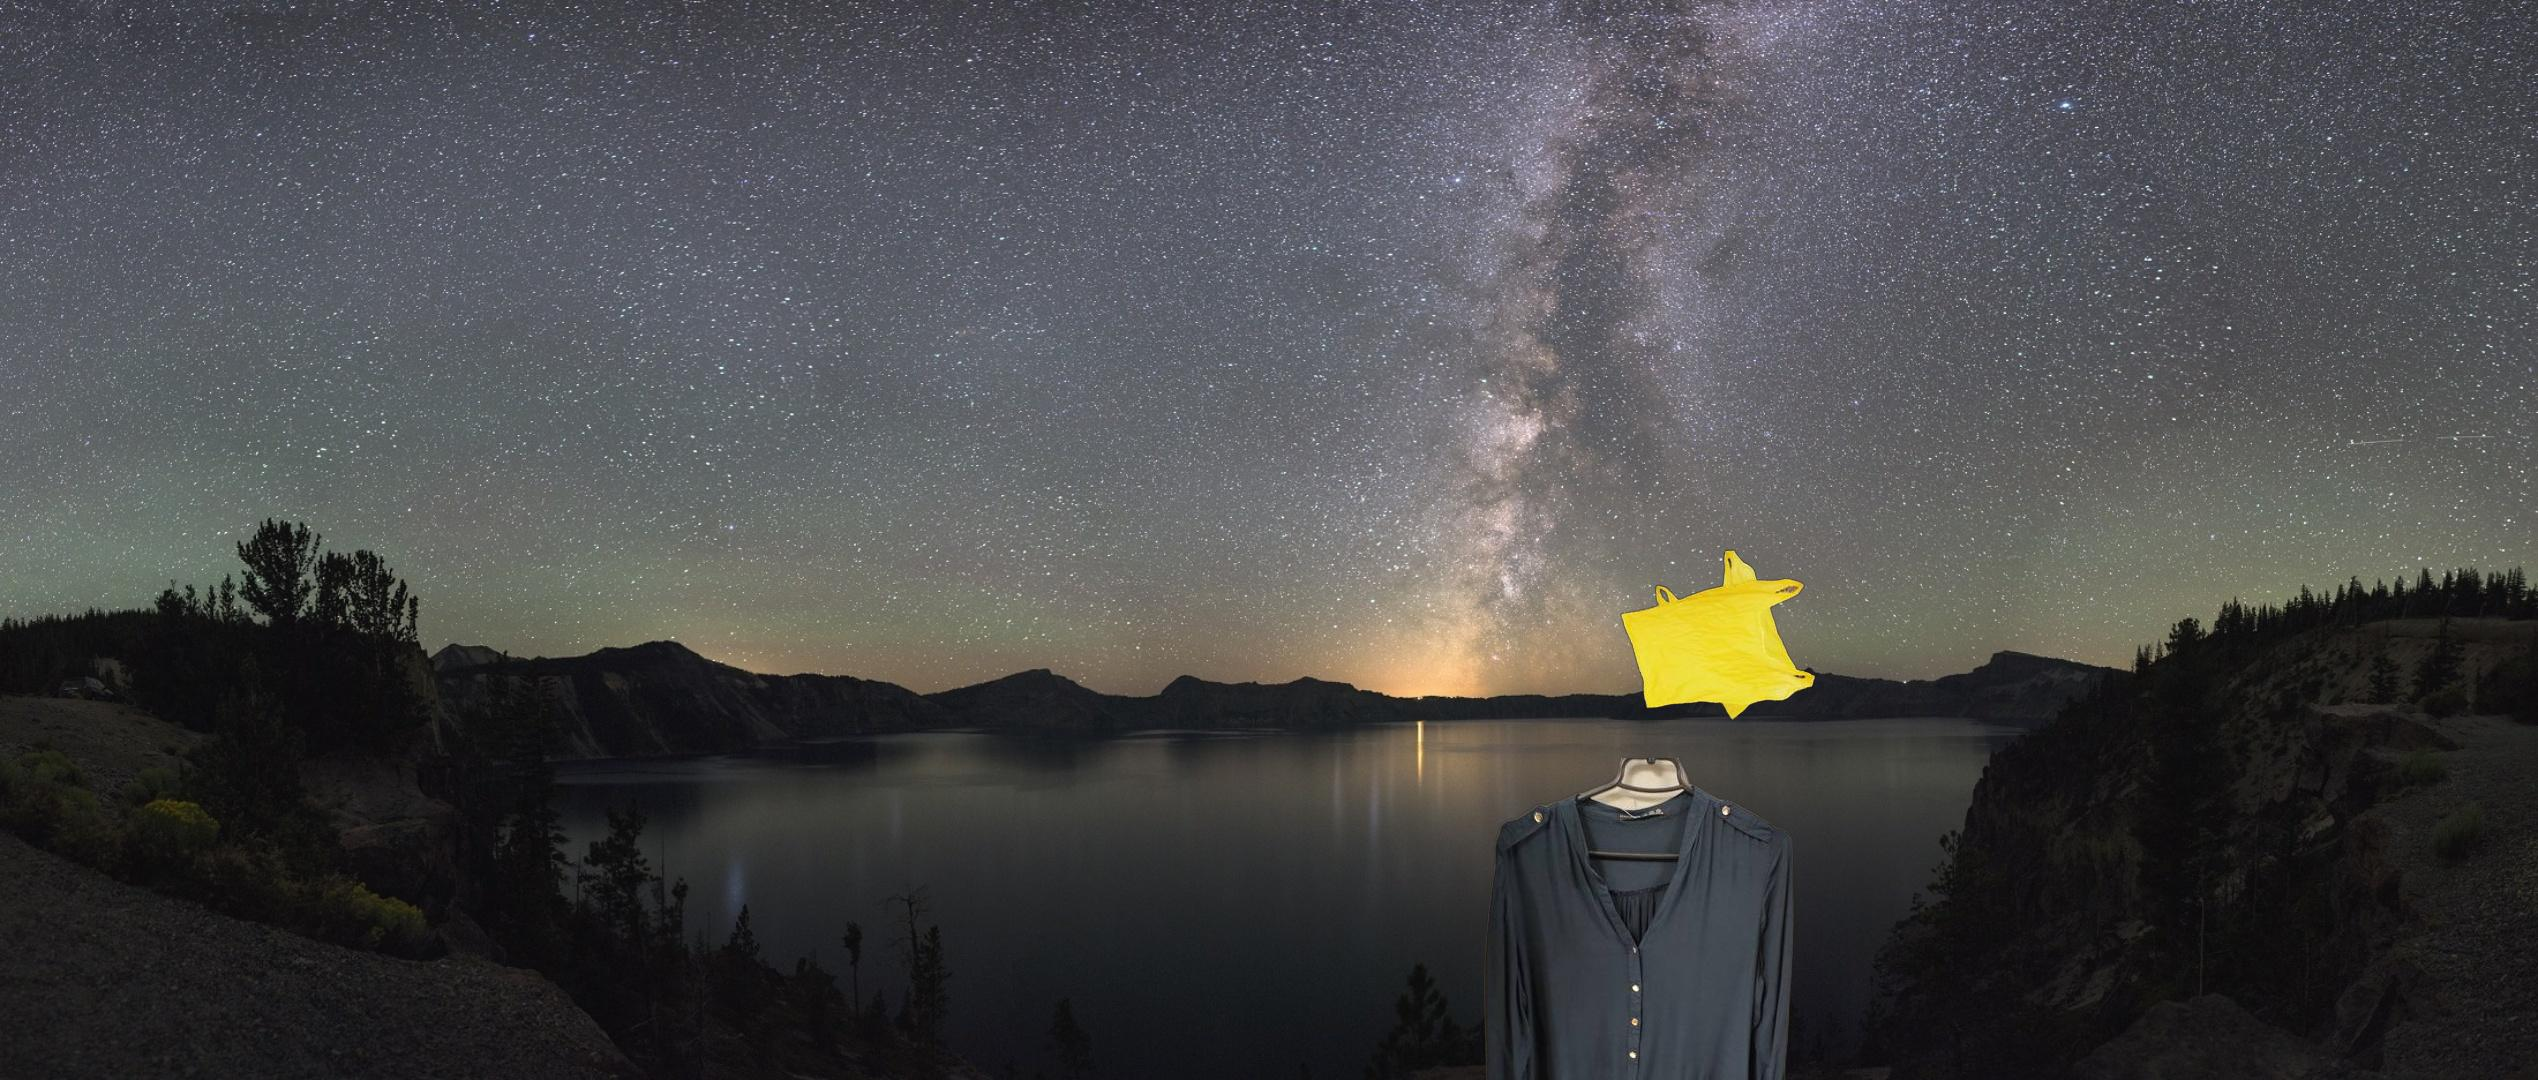clothes: (1479, 758, 1797, 1080)
plastic-bag: (1560, 461, 1818, 724)
